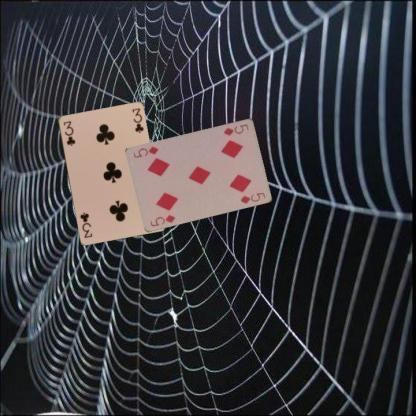3c: (60, 118, 76, 147)
5d: (147, 211, 177, 228), (221, 121, 250, 137)
